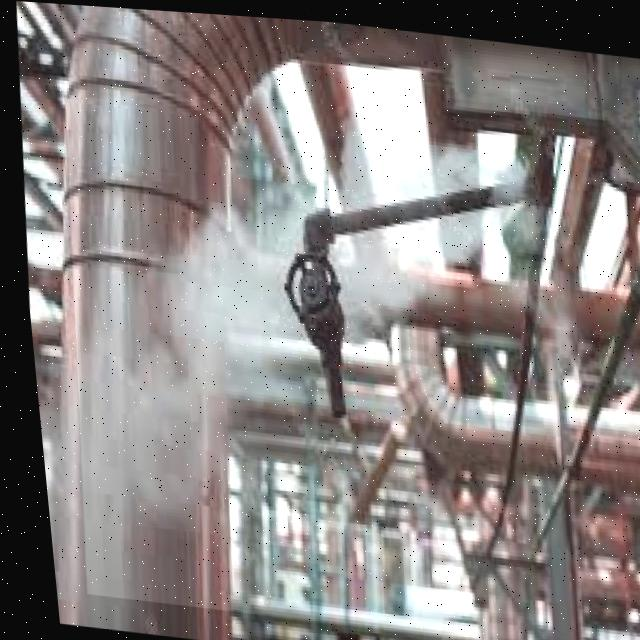corrosion: (235, 167, 515, 459)
